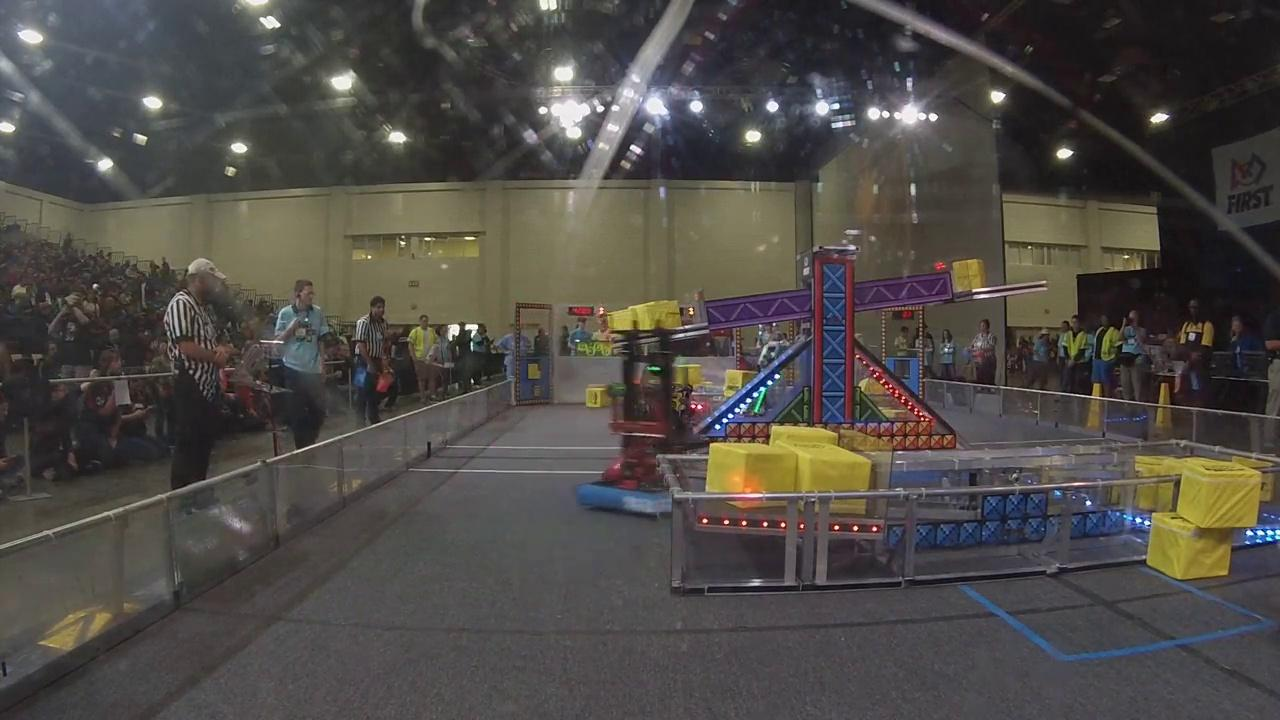robot: (573, 317, 686, 519)
